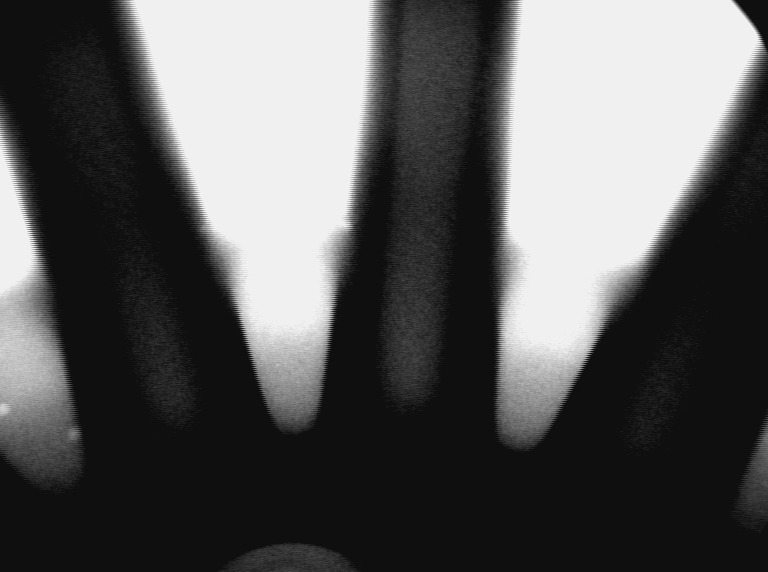defect: (2, 399, 13, 420)
